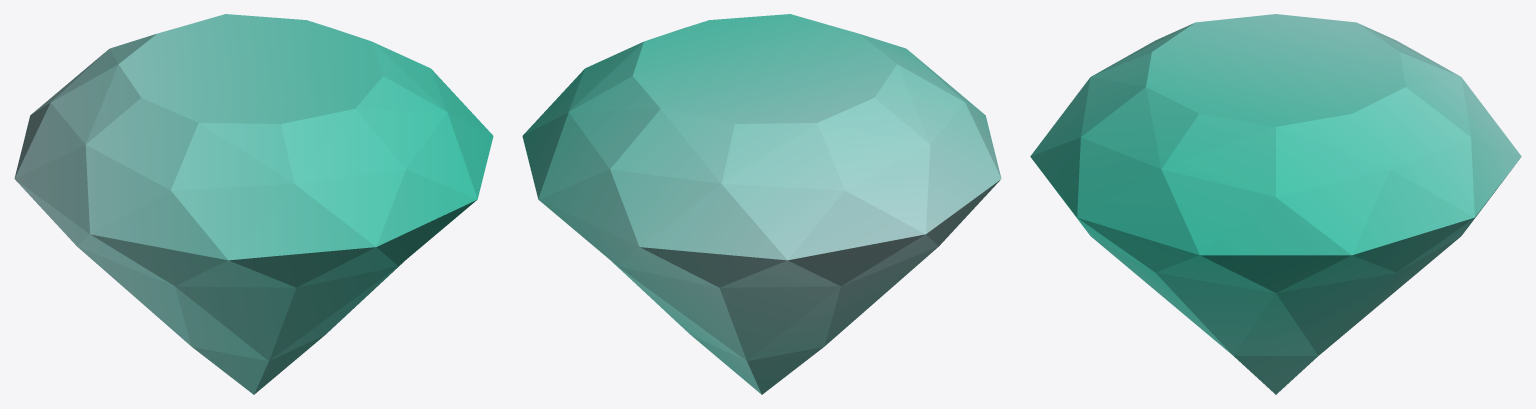
The model's file is Diamond.fbx.
3 views of the same model, side by side, from view 1: azimuth 30°, elevation 25°; view 2: azimuth 150°, elevation 25°; view 3: azimuth 270°, elevation 25° (orthographic).
Visible parts, largest first — view 1: DIAMOND.001; view 2: DIAMOND.001; view 3: DIAMOND.001.
Part boxes in pixels (box(x1,y1,x2,y2)): DIAMOND.001: box(14, 14, 493, 394); DIAMOND.001: box(522, 14, 1001, 394); DIAMOND.001: box(1030, 14, 1521, 394).
Bounding box in the file's own units: 263 × 202 × 276.
Materials: 1 (1 with a texture image).
